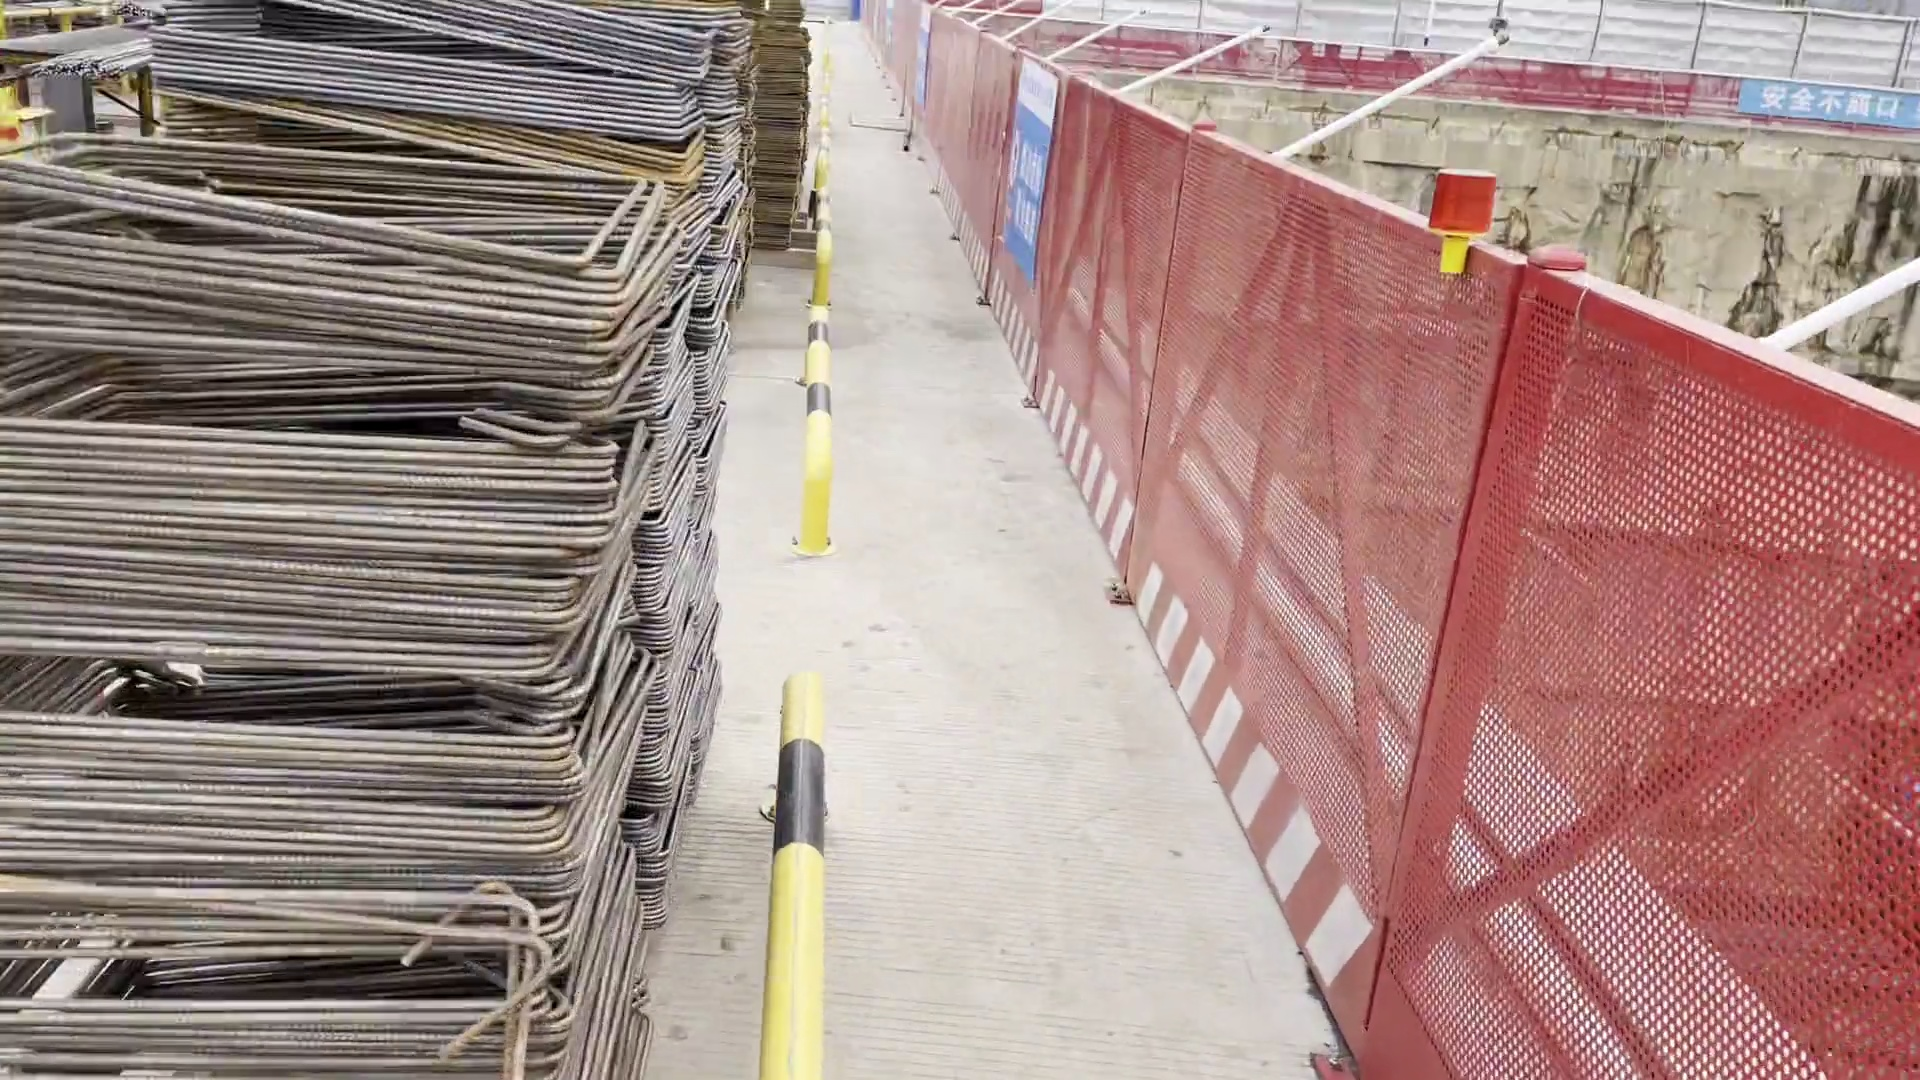fence: (1269, 164, 1917, 1080), (1015, 46, 1349, 895), (1004, 11, 1920, 148), (855, 3, 1040, 427)
rebar: (30, 37, 153, 98)
slogan: (992, 53, 1076, 287), (1724, 70, 1917, 142), (907, 4, 953, 123)
